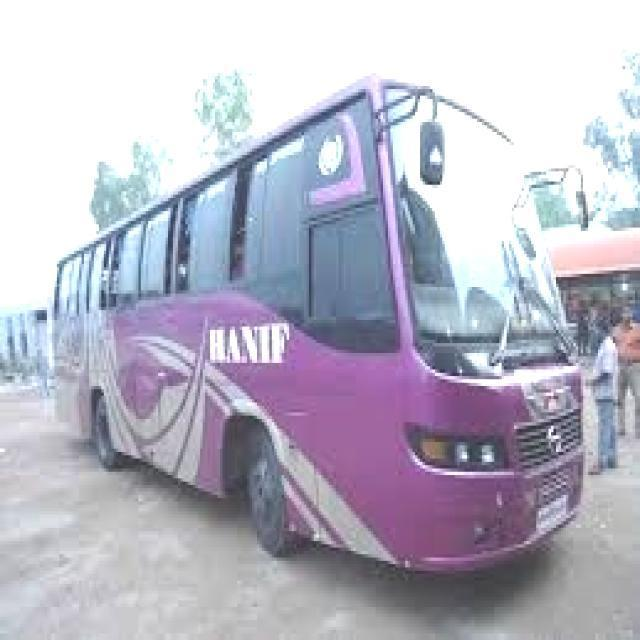Bus: (43, 71, 585, 601)
